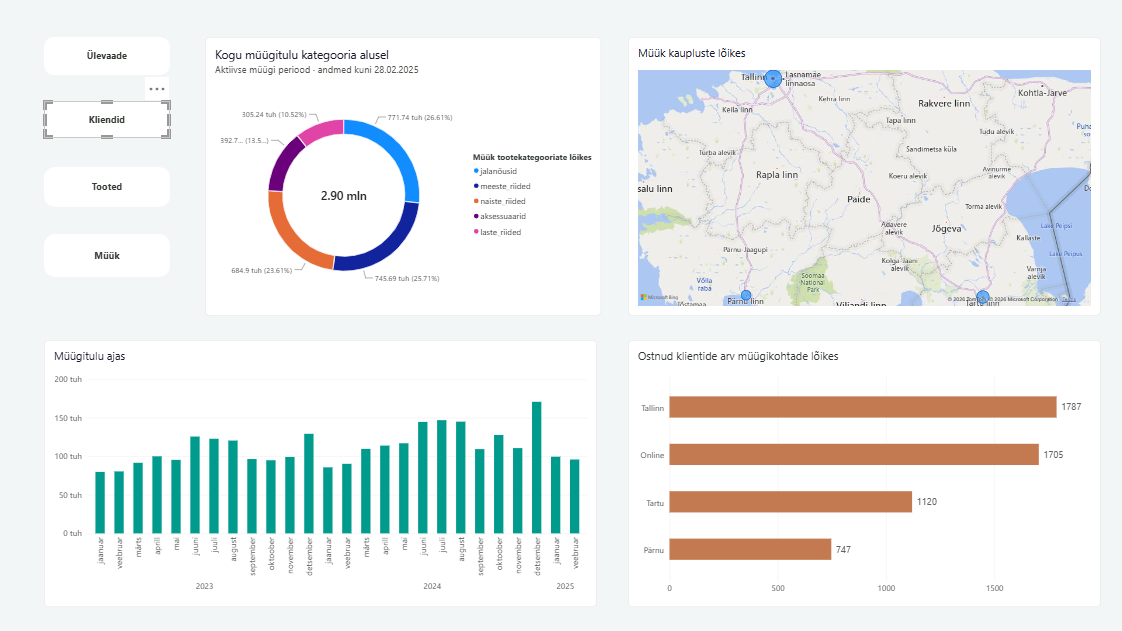

What the dashboard file says about the page in this screenshot:
{"tool":"powerbi","page":{"name":"week 10","canvas":[1920,1080],"ordinal":0},"visuals":[{"type":"textbox","box":[62.5,85,412.5,87.5],"z":0},{"type":"map","title":"Müük kaupluste lõikes","fields":{"Category":["public sales.store_location"],"Size":["public sales.Kogu müügitulu"]},"box":[1074.7,63.3,809.4,477.4],"z":1000},{"type":"donutChart","title":"Kogu müügitulu kategooria alusel","fields":{"Category":["public products.category"],"Y":["public sales.Kogu müügitulu"]},"box":[350.8,63.3,678,477.4],"z":2000},{"type":"columnChart","title":"Müügitulu ajas","fields":{"Category":["public sales.sale_date.Variatsioon.Kuupäeva hierarhia.Aasta","public sales.sale_date.Variatsioon.Kuupäeva hierarhia.Kuu"],"Y":["public sales.Kogu müügitulu"]},"box":[75.3,581.8,946.3,456.9],"z":3000},{"type":"clusteredBarChart","title":"Müügitulu müügikohtade lõikes (€)","fields":{"Category":["public sales.Müügikoht"],"Y":["public sales.Kogu müügitulu"]},"box":[1074.7,581.8,807.7,458.6],"z":4000},{"type":"actionButton","box":[75.3,172.8,215.6,63.3],"z":6000},{"type":"actionButton","box":[75.3,285.8,215.6,68.4],"z":7000},{"type":"actionButton","box":[75.3,400.4,215.6,73.6],"z":8000},{"type":"actionButton","box":[75.3,63.3,215.6,65],"z":9000}]}

Visuals, with their boxes on the page's 1920x1080 design canvas (x1, y1, x2, y2). These are canvas units, not pixel positions in the 1122x631 screenshot, which may show the page scaled, cropped or inside an application window:
textbox: 62,85,475,172
"Müük kaupluste lõikes" map: 1075,63,1884,541
"Kogu müügitulu kategooria alusel" donutChart: 351,63,1029,541
"Müügitulu ajas" columnChart: 75,582,1022,1039
"Müügitulu müügikohtade lõikes (€)" clusteredBarChart: 1075,582,1882,1040
actionButton: 75,173,291,236
actionButton: 75,286,291,354
actionButton: 75,400,291,474
actionButton: 75,63,291,128
